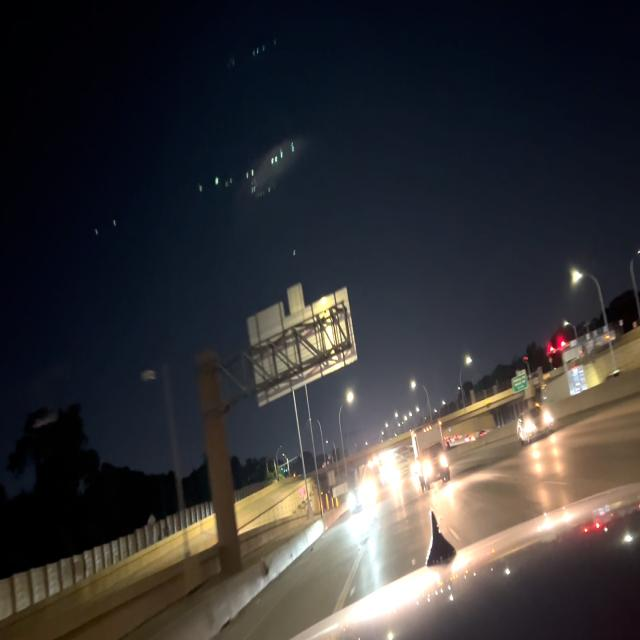back-of-sign: (246, 284, 360, 411)
